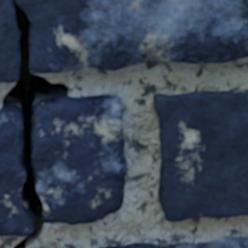brick: (154, 90, 247, 220), (105, 236, 247, 247)
broken_brick: (16, 0, 247, 73), (33, 94, 127, 225), (0, 106, 30, 236), (0, 0, 19, 83)
crack: (0, 0, 69, 247)
